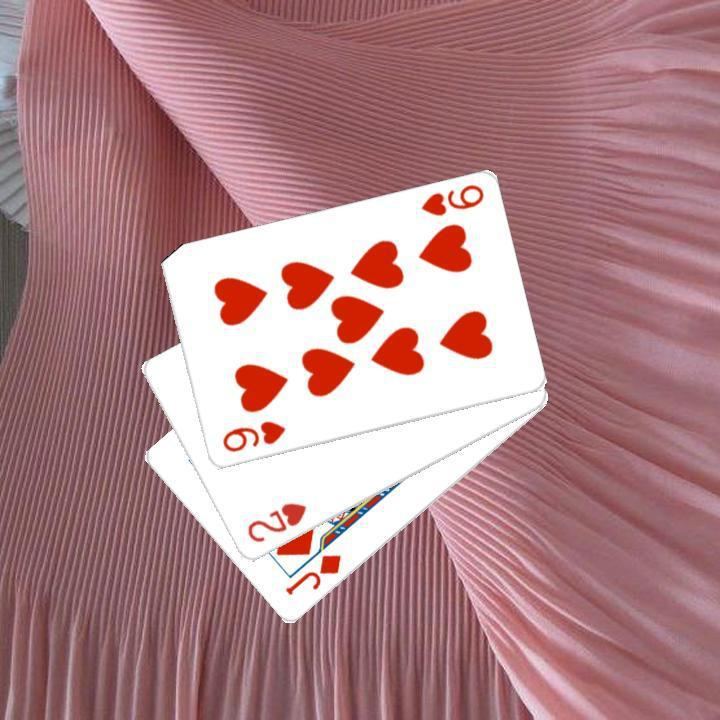2: (242, 498, 309, 545)
9: (416, 180, 486, 219), (217, 417, 287, 455)
J: (281, 550, 344, 598)
